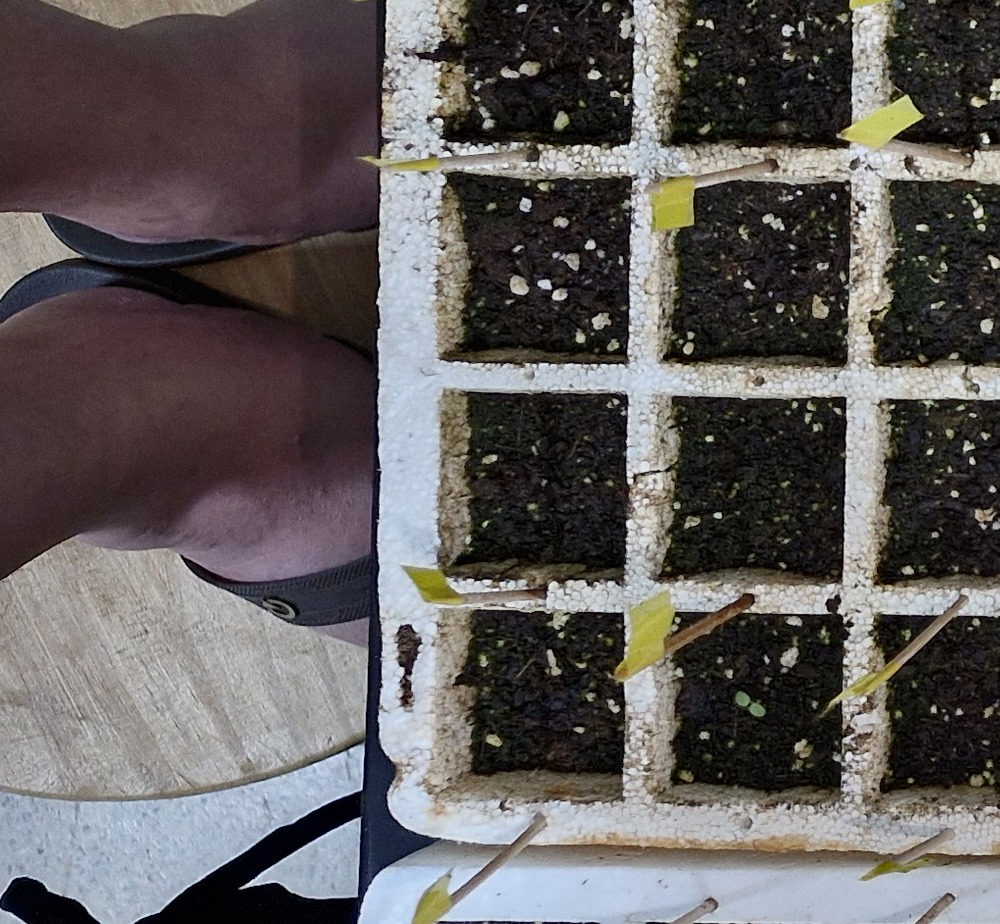Folha: (750, 703, 765, 717), (736, 691, 750, 706)
Germinacao: (735, 691, 766, 716)
